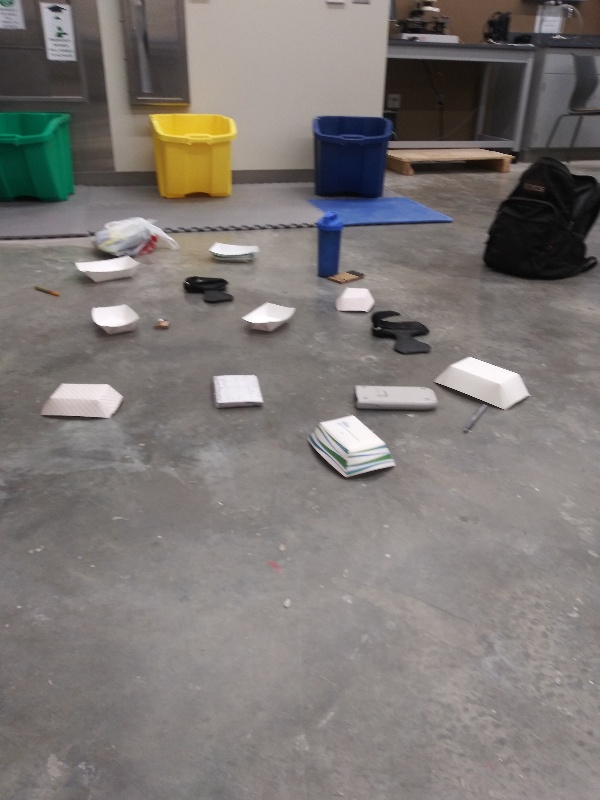plate: (301, 413, 400, 486), (430, 354, 537, 417), (35, 380, 126, 425), (71, 254, 146, 287), (89, 301, 143, 343), (237, 301, 300, 337), (207, 241, 263, 268), (330, 286, 377, 316)
